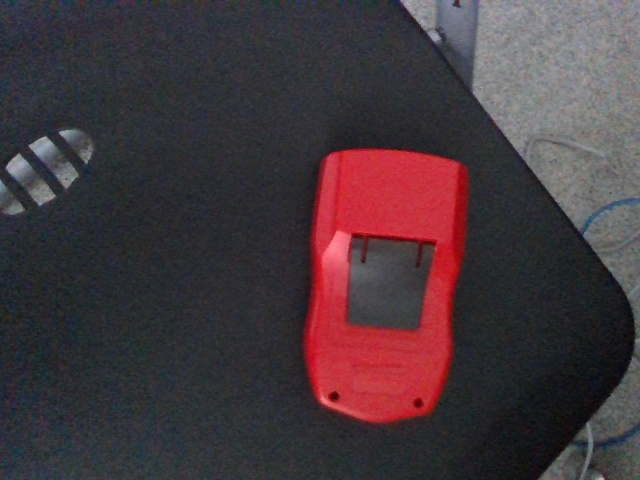multimeter: (302, 147, 471, 426)
screw hole: (328, 391, 340, 403), (414, 398, 423, 410)
